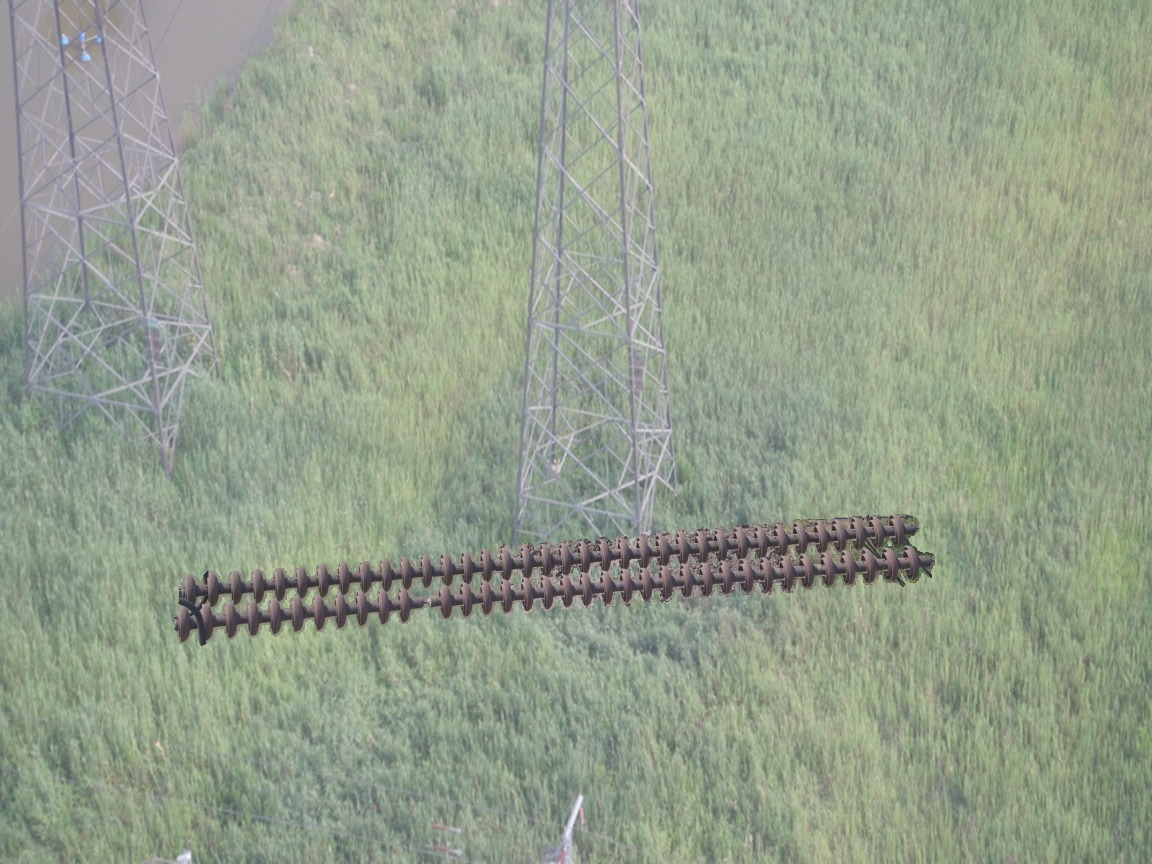defect: (392, 582, 460, 626)
